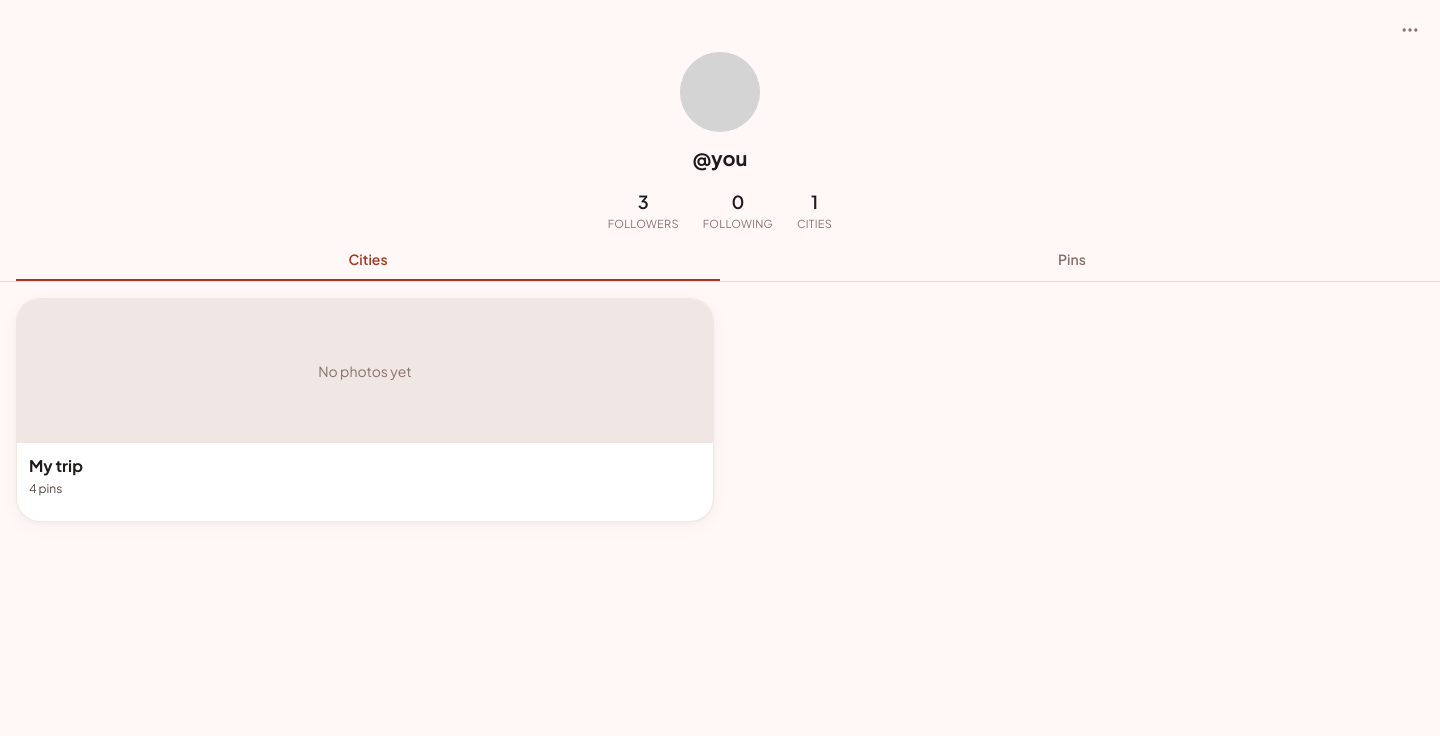
Test case: Profile — Pins tab grouped by category › groups a pin with a custom category under its own header
Click the button "Pins": click(1072, 264) [720,248,1424,280]
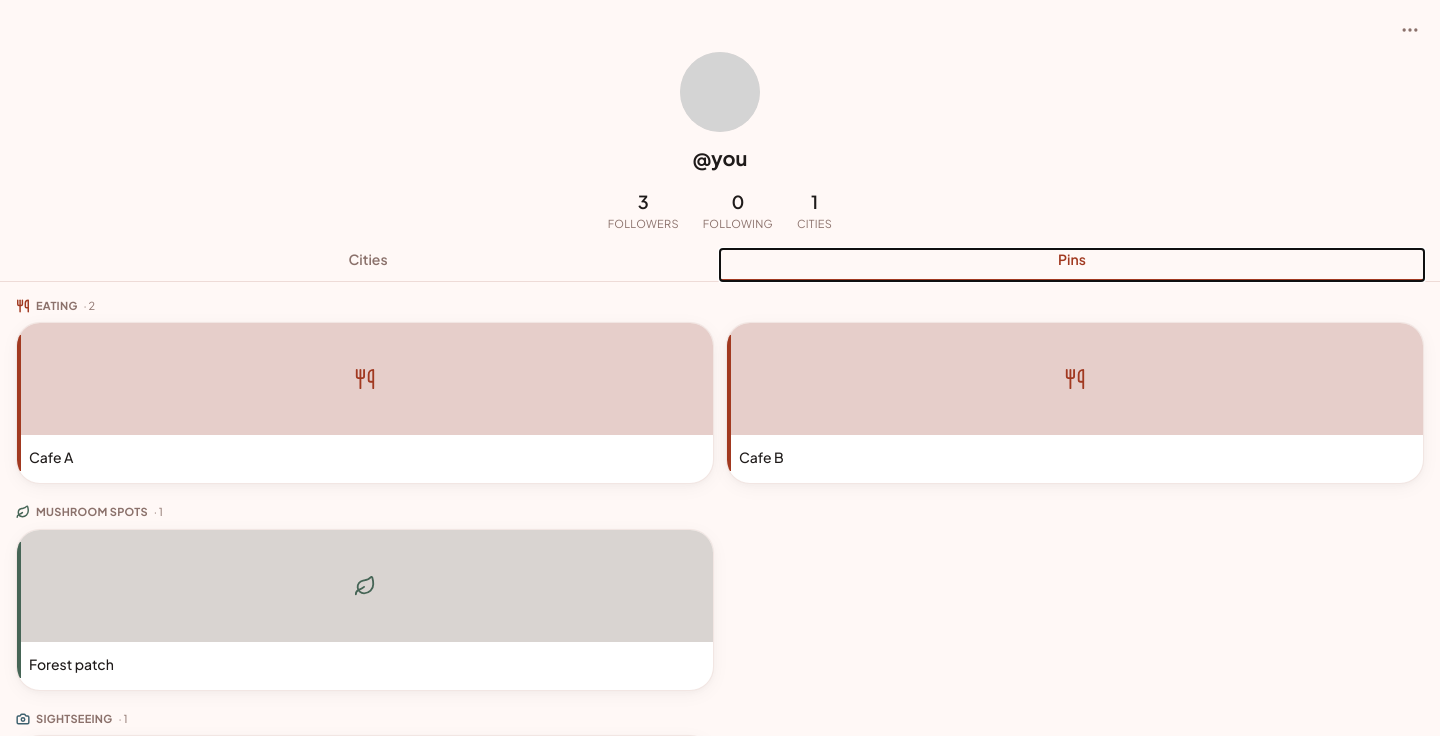
Expected: the text "Mushroom spots" is shown, [36,504,148,520]
Expected: the text "Forest patch" is shown, [29,654,114,672]
